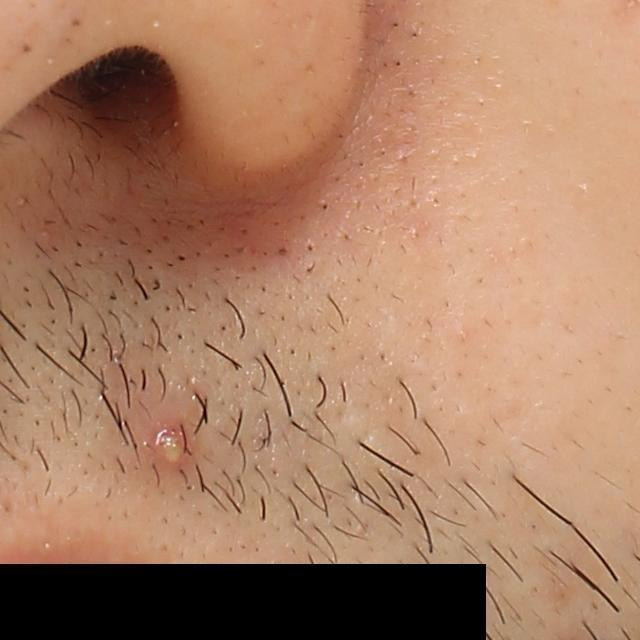pustule: (138, 414, 200, 474)
